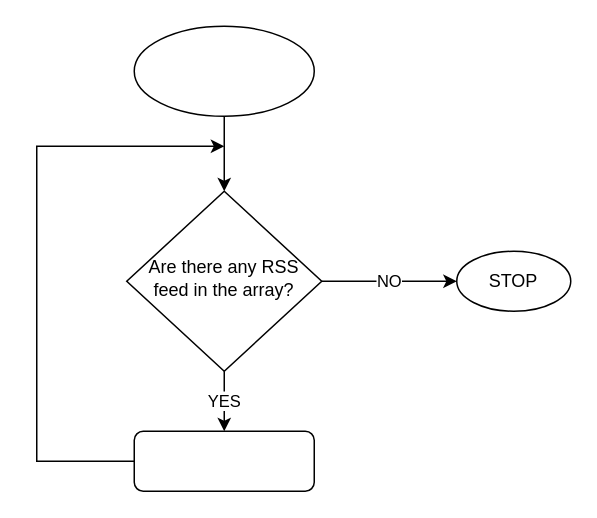
Some shapes in this 597 by 518 pixel diagram are drawn without their labels. The shapes that lost their labels are listed below. From the top down, each one's box as (x1, y1, x2, y2) in pixels, then its label:
(133, 25, 314, 116): RSS Poll
(133, 430, 314, 491): Update RSS information
